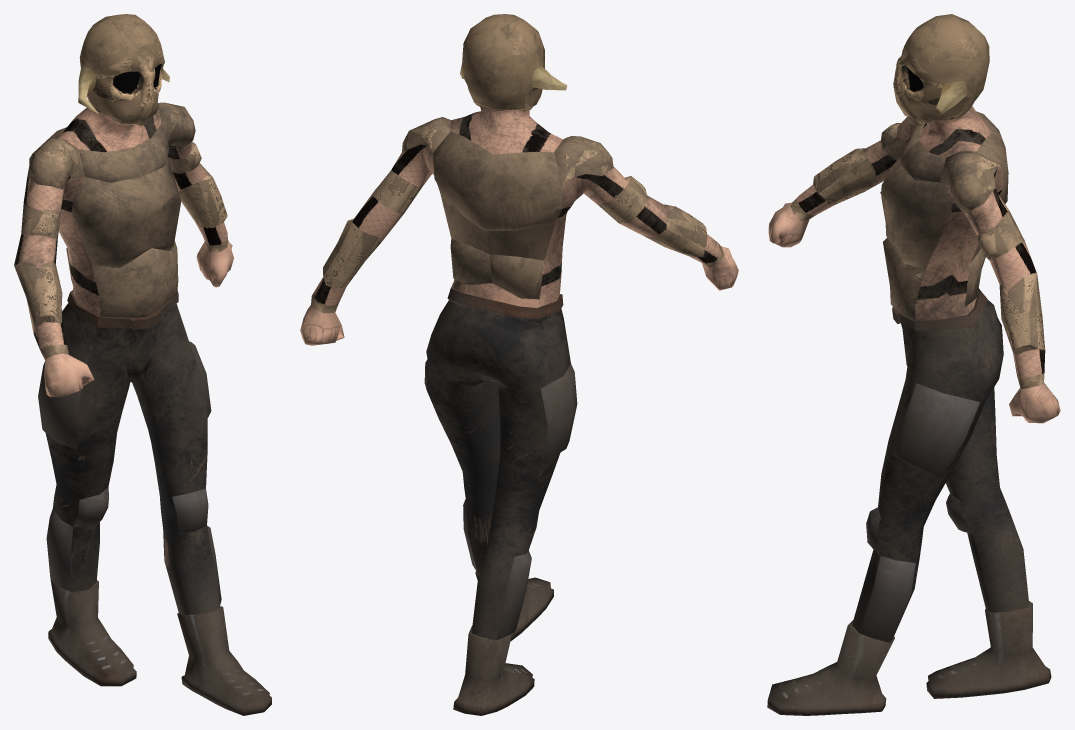
Rendered from Anim_andar_npc1.0032.obj.
The picture shows the model from 3 angles, left to right: view 1: azimuth 30°, elevation 25°; view 2: azimuth 150°, elevation 25°; view 3: azimuth 270°, elevation 25°; orthographic projection. The views are drawn at different scales.
Visible parts, largest first — view 1: Anim_andar_npc1; view 2: Anim_andar_npc1; view 3: Anim_andar_npc1.
Boxes of the visible parts, bbox=[...] form: Anim_andar_npc1: bbox=[14, 14, 271, 715]; Anim_andar_npc1: bbox=[300, 14, 738, 715]; Anim_andar_npc1: bbox=[767, 14, 1060, 715].
Size of the model in its own units: 4.67 by 9.67 by 3.8.
